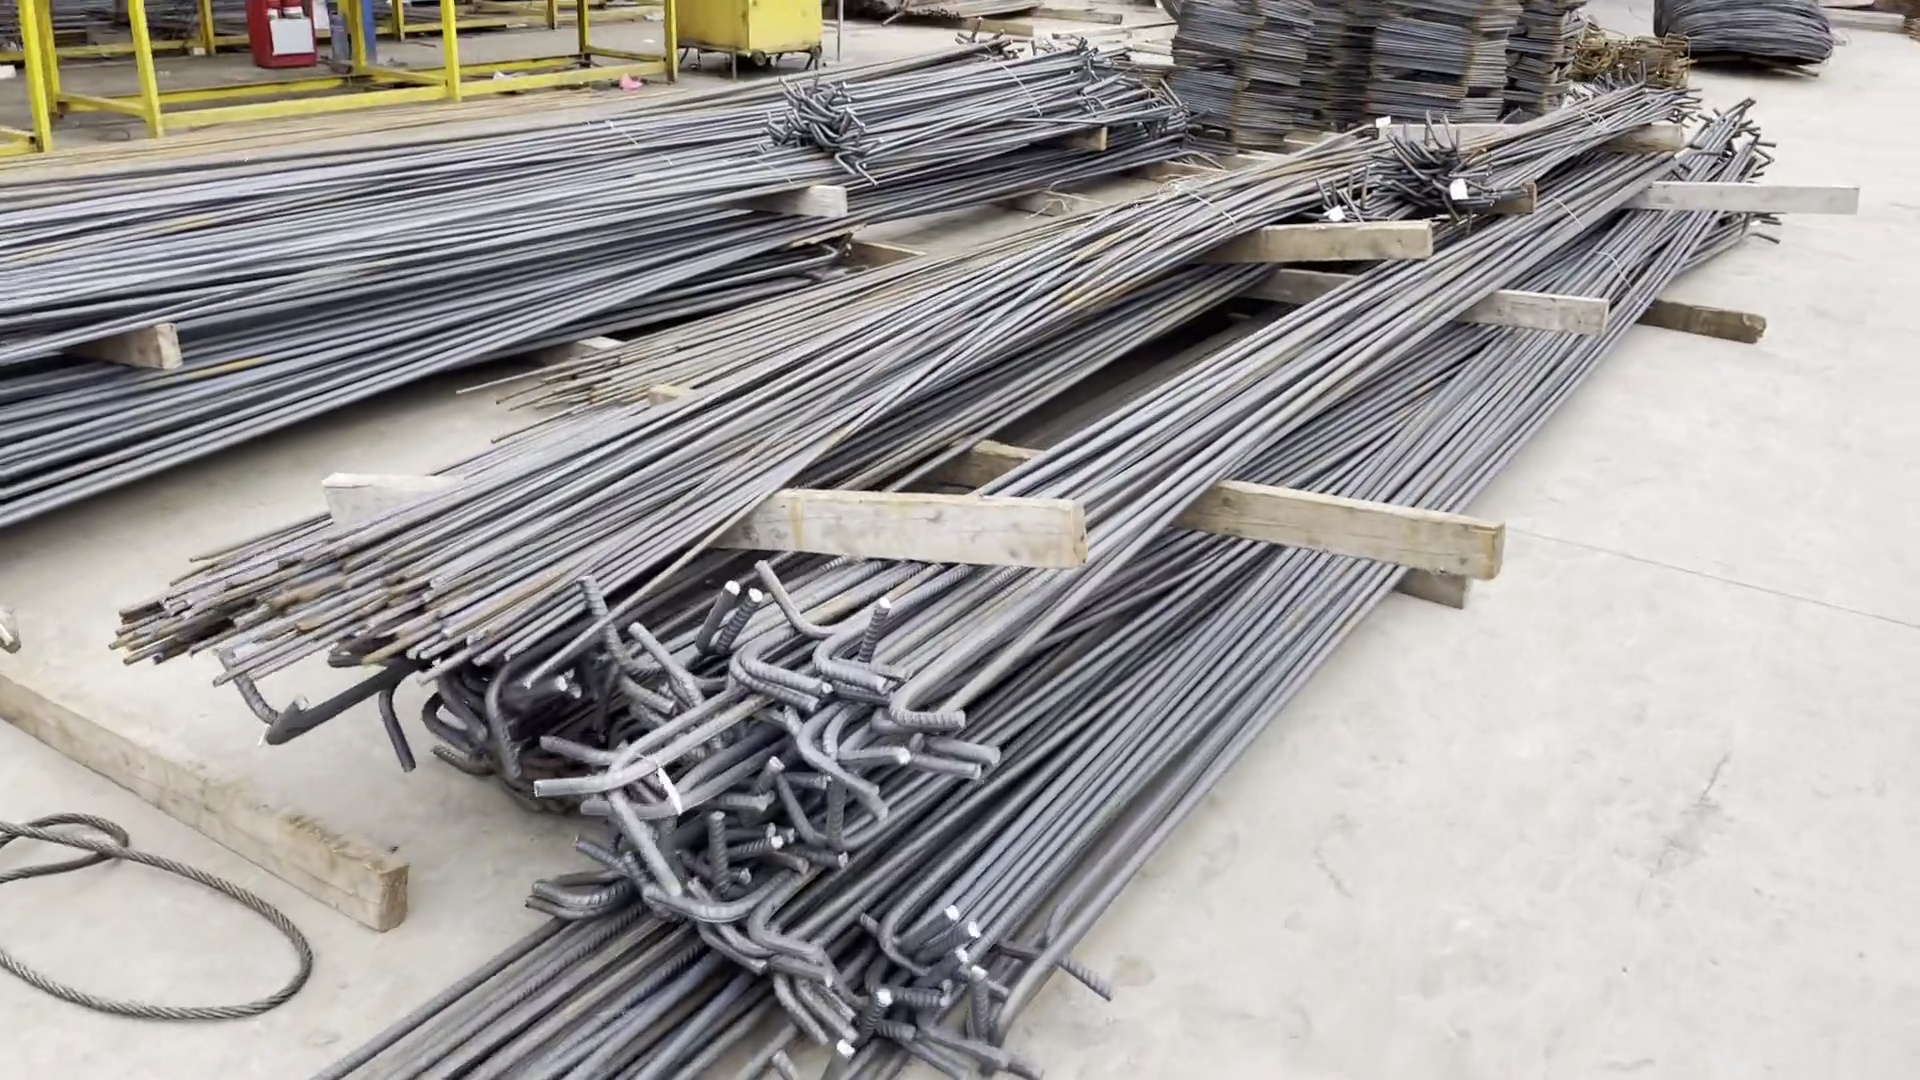rebar: (80, 95, 1920, 1013), (1, 26, 1237, 567)
